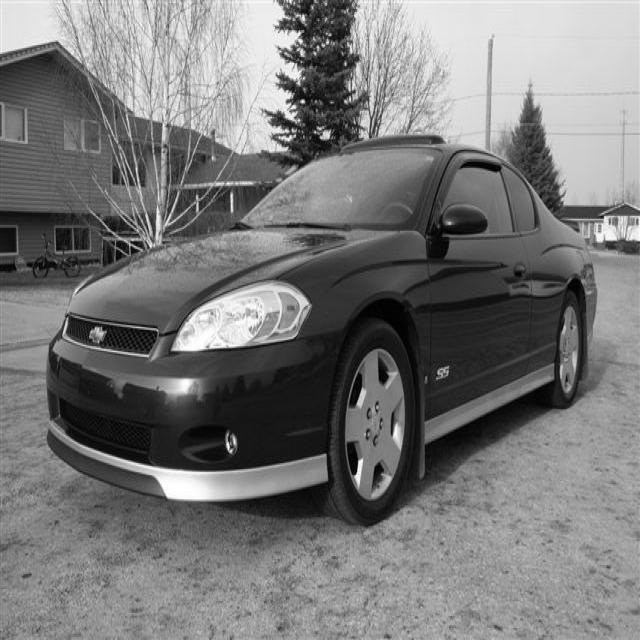car: (45, 132, 598, 527)
